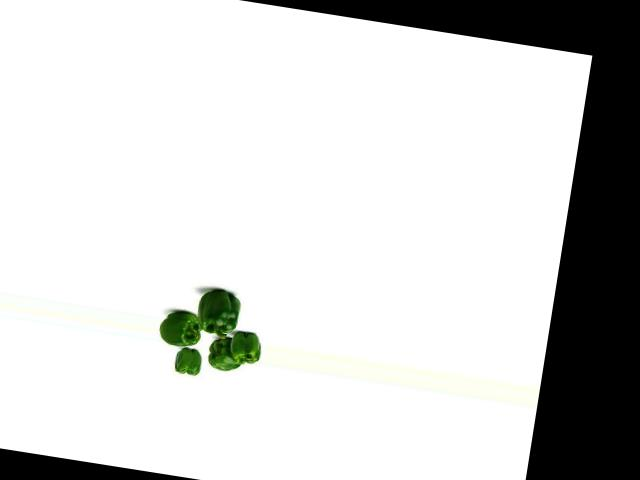bell_pepper: (225, 325, 264, 365)
